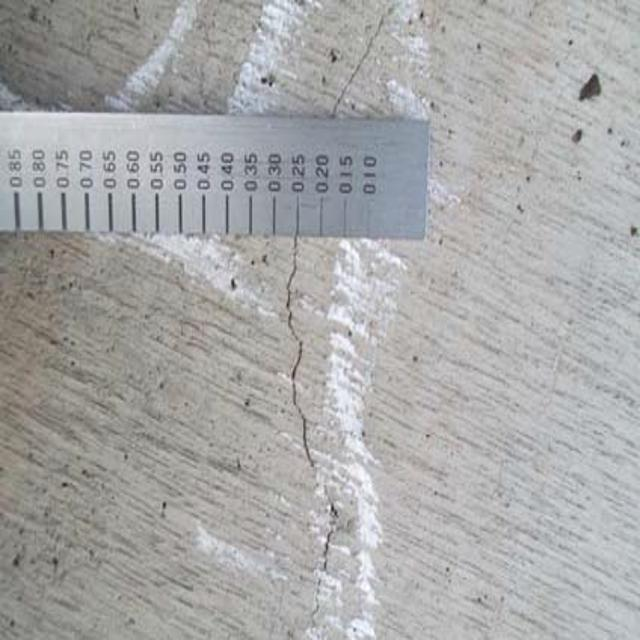crack: (267, 235, 344, 626), (314, 0, 410, 116)
